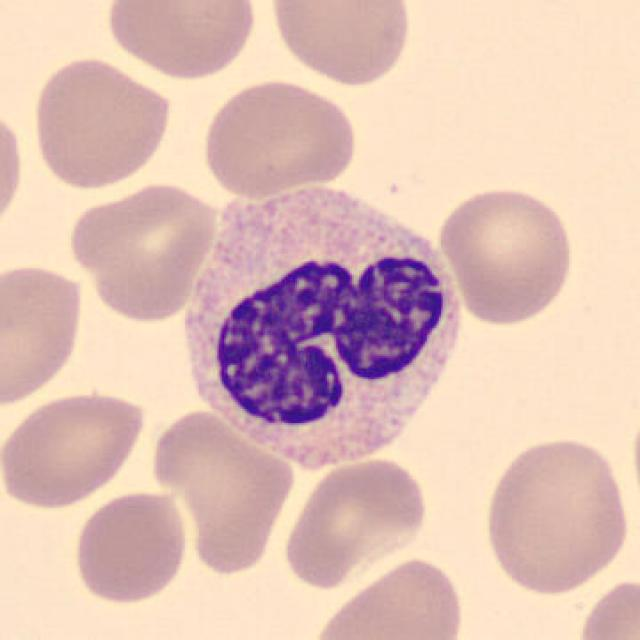Neutrophil: (173, 171, 471, 485)
RBC: (146, 404, 298, 576), (478, 432, 635, 598), (64, 178, 222, 324), (279, 453, 432, 591), (434, 182, 578, 328), (27, 51, 174, 192), (197, 74, 359, 199), (0, 386, 149, 511), (69, 486, 192, 606), (303, 553, 469, 640), (265, 0, 416, 88), (0, 259, 87, 409), (103, 0, 261, 81), (570, 573, 640, 640), (0, 100, 28, 238)
